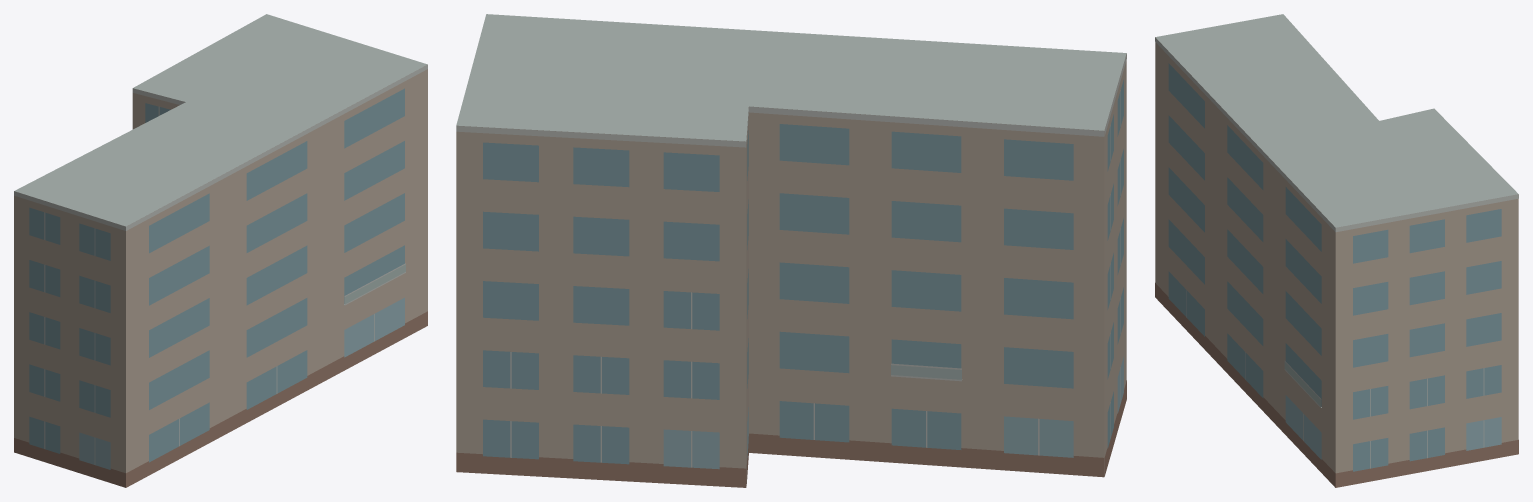
The model's file is survey-upis-32859932.glb.
3 renders of one model, left to right at view 1: azimuth 30°, elevation 25°; view 2: azimuth 150°, elevation 25°; view 3: azimuth 270°, elevation 25°, orthographic. The views are drawn at different scales.
Parts seen in each view (by area): view 1: survey-upis-32859932.tmp; view 2: survey-upis-32859932.tmp; view 3: survey-upis-32859932.tmp.
Boxes of the visible parts, bbox=[...] form: survey-upis-32859932.tmp: bbox=[14, 14, 427, 487]; survey-upis-32859932.tmp: bbox=[456, 14, 1126, 487]; survey-upis-32859932.tmp: bbox=[1155, 14, 1518, 487].
Bounding box in the file's own units: 24.68 × 14 × 17.75.
